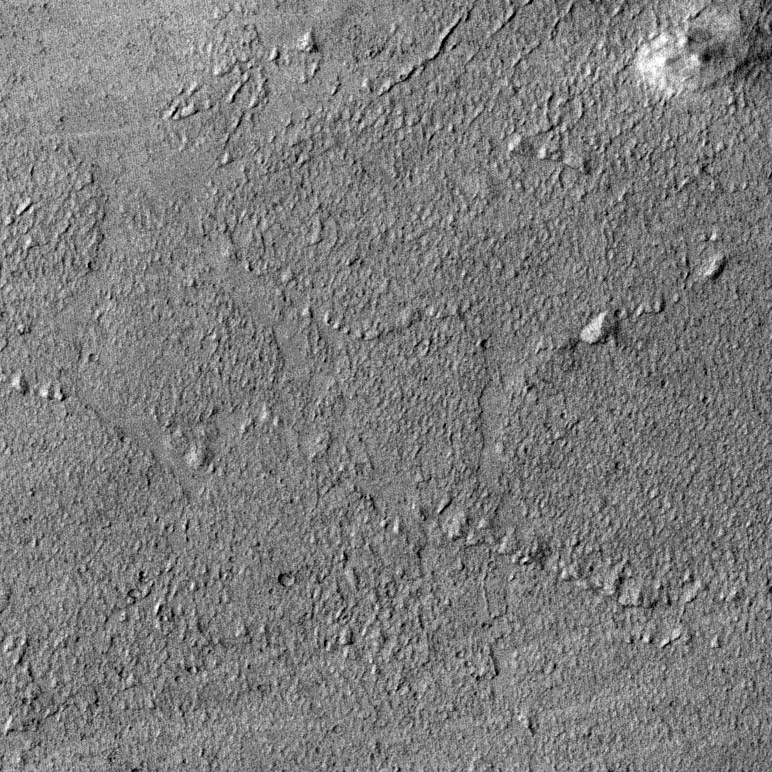dust_devil: (633, 3, 772, 101)
